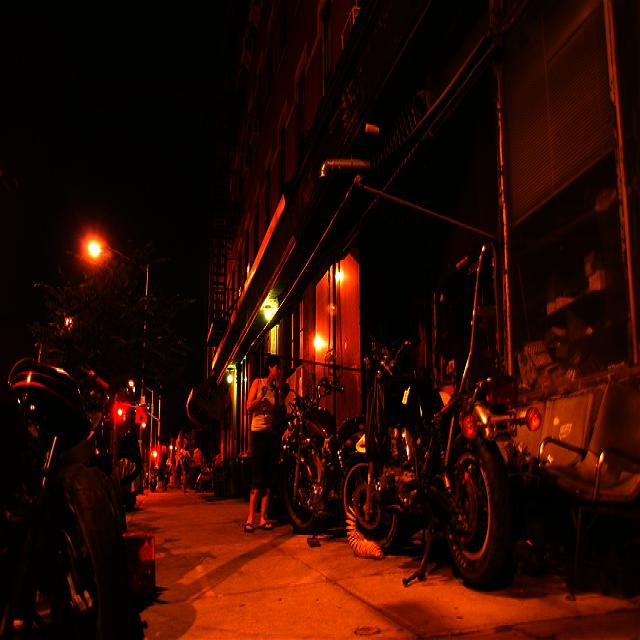Motorbike: (341, 333, 513, 591), (277, 379, 349, 526)
